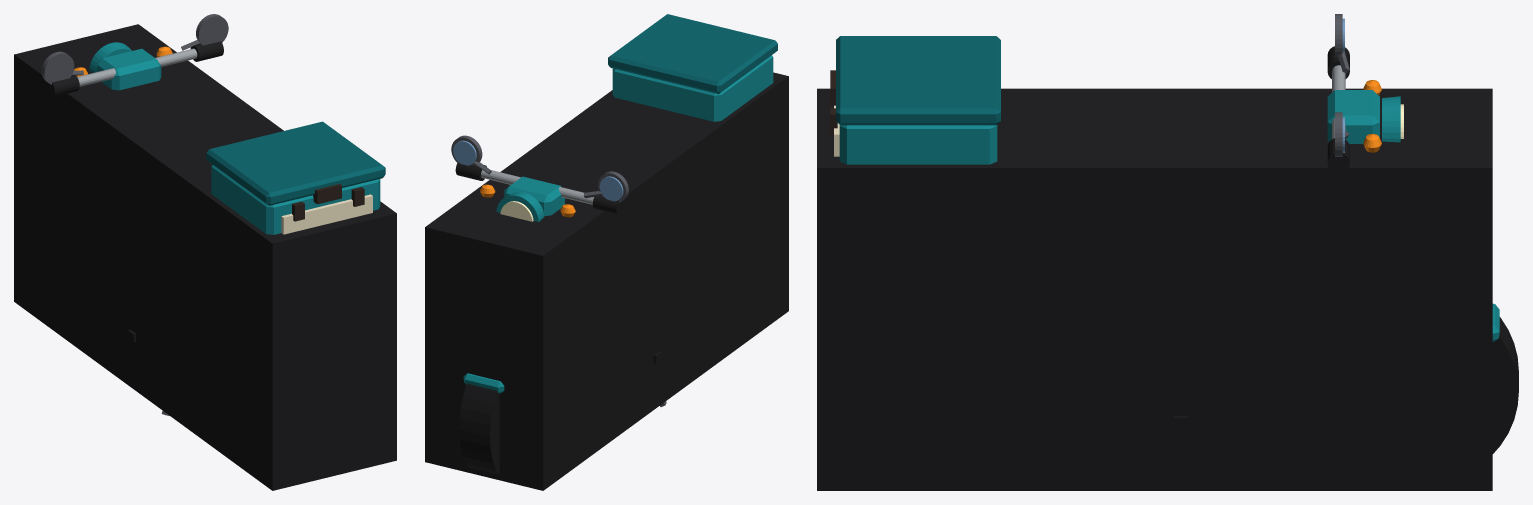
Rendered from veh_delivery_bike.fbx.
The picture shows the model from 3 angles, left to right: view 1: azimuth 30°, elevation 25°; view 2: azimuth 150°, elevation 25°; view 3: azimuth 270°, elevation 25°; orthographic projection. The views are drawn at different scales.
Parts seen in each view (by area): view 1: COL_veh_delivery_bike, CargoLid, Steering, Body_LOD0; view 2: COL_veh_delivery_bike, CargoLid, Steering, Body_LOD0, FrontWheel; view 3: COL_veh_delivery_bike, CargoLid, Body_LOD0, Steering, FrontWheel.
Boxes of the visible parts, x1=… form: COL_veh_delivery_bike: x1=14, y1=24, x2=396, y2=490; CargoLid: x1=206, y1=121, x2=385, y2=205; Steering: x1=41, y1=14, x2=228, y2=96; Body_LOD0: x1=128, y1=165, x2=380, y2=415; COL_veh_delivery_bike: x1=425, y1=72, x2=788, y2=490; CargoLid: x1=608, y1=14, x2=777, y2=93; Steering: x1=451, y1=135, x2=628, y2=393; Body_LOD0: x1=612, y1=55, x2=773, y2=406; FrontWheel: x1=459, y1=383, x2=499, y2=475; COL_veh_delivery_bike: x1=817, y1=88, x2=1492, y2=490; CargoLid: x1=830, y1=36, x2=1000, y2=125; Body_LOD0: x1=830, y1=70, x2=1188, y2=427; Steering: x1=1327, y1=14, x2=1499, y2=342; FrontWheel: x1=1492, y1=317, x2=1518, y2=453.
Size of what is drawn, in the model's own units: 0.7393 by 1.21 by 1.87.
1 material, 1 textured.
